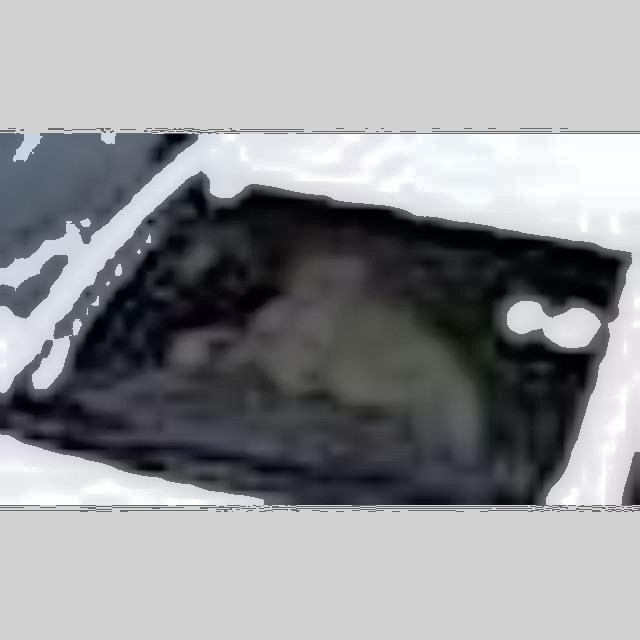tidak-pakai: (217, 248, 485, 464)
